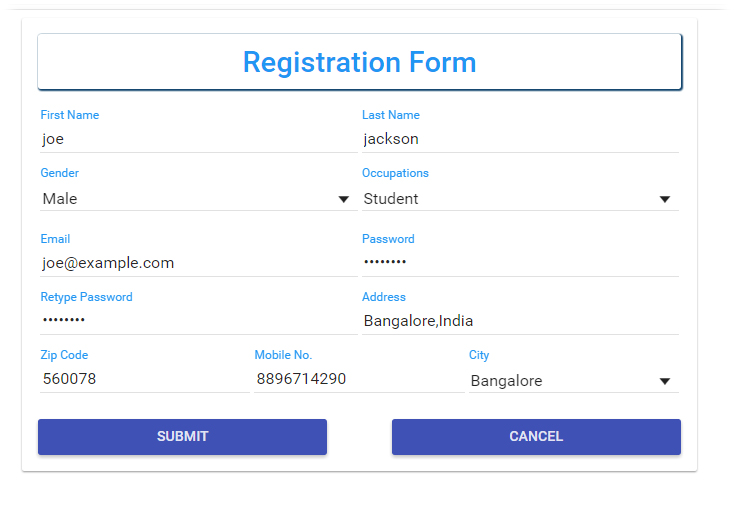_form_: (301, 56, 717, 472), (1, 92, 415, 508)
button: (36, 418, 329, 458), (390, 417, 683, 457)
field_line: (37, 308, 360, 338), (37, 186, 359, 215), (37, 126, 358, 155), (362, 309, 683, 338), (361, 184, 680, 213), (360, 126, 678, 155), (360, 251, 675, 280), (36, 251, 357, 279), (467, 365, 681, 396), (253, 365, 466, 395), (37, 366, 252, 394)
field_line_with_label: (358, 232, 677, 282), (36, 107, 359, 156), (360, 107, 680, 156), (35, 292, 361, 340), (34, 232, 359, 280), (360, 291, 685, 339), (36, 168, 360, 216), (360, 167, 681, 214), (466, 349, 683, 398), (36, 347, 251, 396), (252, 348, 467, 396)
